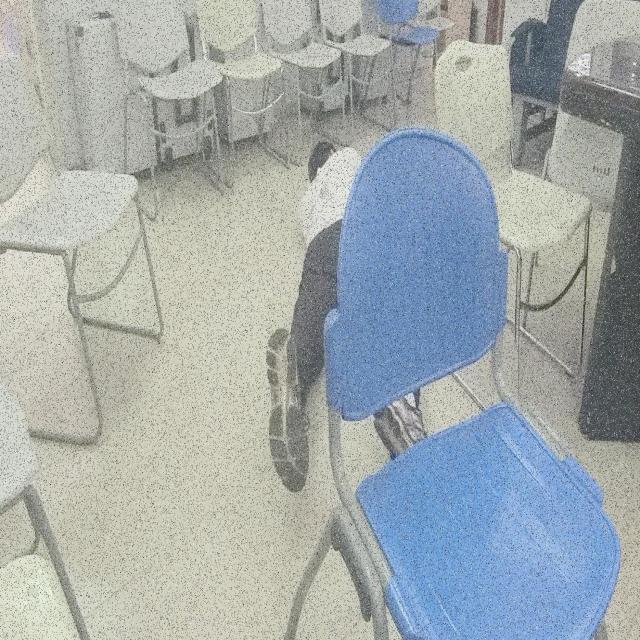fall: (264, 137, 432, 490)
